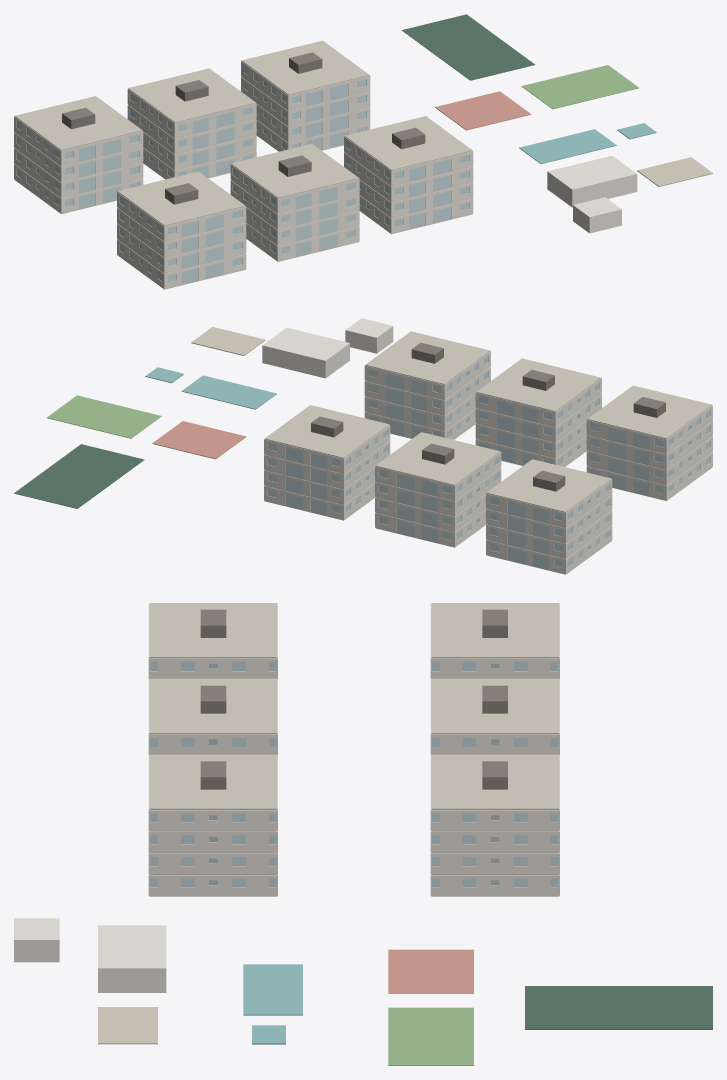
File: jardim-das-aguas-leve.glb
3 views of the same model, one above another, from view 1: azimuth 30°, elevation 25°; view 2: azimuth 150°, elevation 25°; view 3: azimuth 270°, elevation 25° (orthographic). The views are drawn at different scales.
Visible parts, largest first — view 1: VIS__FACHADA, AMENITY__QUADRA, VIS__COBERTURA_B05, VIS__COBERTURA_B02, VIS__COBERTURA_B03, VIS__COBERTURA_B04, VIS__COBERTURA_B01, VIS__COBERTURA_B06, AMENITY__SALAO, AMENITY__PET, AMENITY__PISCINA, AMENITY__PLAYGROUND (+8 smaller); view 2: VIS__FACHADA, AMENITY__QUADRA, VIS__COBERTURA_B02, VIS__COBERTURA_B03, VIS__COBERTURA_B01, VIS__COBERTURA_B04, VIS__COBERTURA_B06, VIS__COBERTURA_B05, AMENITY__SALAO, AMENITY__PET, AMENITY__PISCINA, AMENITY__PLAYGROUND (+8 smaller); view 3: VIS__FACHADA, AMENITY__QUADRA, VIS__COBERTURA_B02, VIS__COBERTURA_B03, VIS__COBERTURA_B05, VIS__COBERTURA_B06, VIS__COBERTURA_B01, VIS__COBERTURA_B04, AMENITY__PET, AMENITY__SALAO, AMENITY__PLAYGROUND, AMENITY__PISCINA (+8 smaller).
Part boxes in pixels (<box>): VIS__FACHADA: <box>14,61,473,288</box>; AMENITY__QUADRA: <box>401,14,535,80</box>; VIS__COBERTURA_B05: <box>231,144,358,198</box>; VIS__COBERTURA_B02: <box>128,68,255,122</box>; VIS__COBERTURA_B03: <box>241,40,369,95</box>; VIS__COBERTURA_B04: <box>117,171,245,226</box>; VIS__COBERTURA_B01: <box>14,96,142,150</box>; VIS__COBERTURA_B06: <box>344,116,472,170</box>; AMENITY__SALAO: <box>547,155,637,207</box>; AMENITY__PET: <box>521,65,638,109</box>; AMENITY__PISCINA: <box>519,123,656,164</box>; AMENITY__PLAYGROUND: <box>435,91,531,130</box>; VIS__FACHADA: <box>264,351,712,573</box>; AMENITY__QUADRA: <box>14,444,144,508</box>; VIS__COBERTURA_B02: <box>375,432,500,485</box>; VIS__COBERTURA_B03: <box>264,405,389,458</box>; VIS__COBERTURA_B01: <box>486,459,611,512</box>; VIS__COBERTURA_B04: <box>587,385,712,438</box>; VIS__COBERTURA_B06: <box>365,331,490,384</box>; VIS__COBERTURA_B05: <box>476,358,601,411</box>; AMENITY__SALAO: <box>262,327,349,378</box>; AMENITY__PET: <box>46,395,161,438</box>; AMENITY__PISCINA: <box>145,367,276,409</box>; AMENITY__PLAYGROUND: <box>152,421,246,459</box>; VIS__FACHADA: <box>148,604,559,895</box>; AMENITY__QUADRA: <box>525,986,712,1029</box>; VIS__COBERTURA_B02: <box>431,678,559,733</box>; VIS__COBERTURA_B03: <box>431,754,559,809</box>; VIS__COBERTURA_B05: <box>149,678,277,733</box>; VIS__COBERTURA_B06: <box>149,754,277,809</box>; VIS__COBERTURA_B01: <box>431,603,559,658</box>; VIS__COBERTURA_B04: <box>149,603,277,658</box>; AMENITY__PET: <box>388,1007,473,1065</box>; AMENITY__SALAO: <box>98,925,166,992</box>; AMENITY__PLAYGROUND: <box>388,949,473,993</box>; AMENITY__PISCINA: <box>243,964,302,1044</box>.
Size of the model in its own units: 104 by 12.95 by 81.85.
